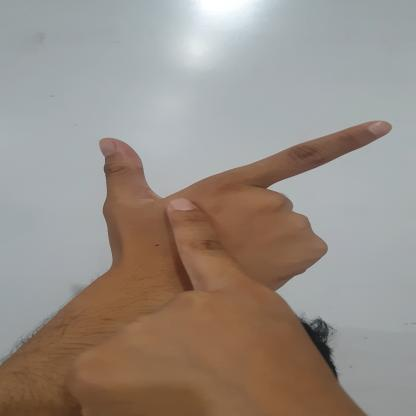Y: (92, 118, 393, 354)
